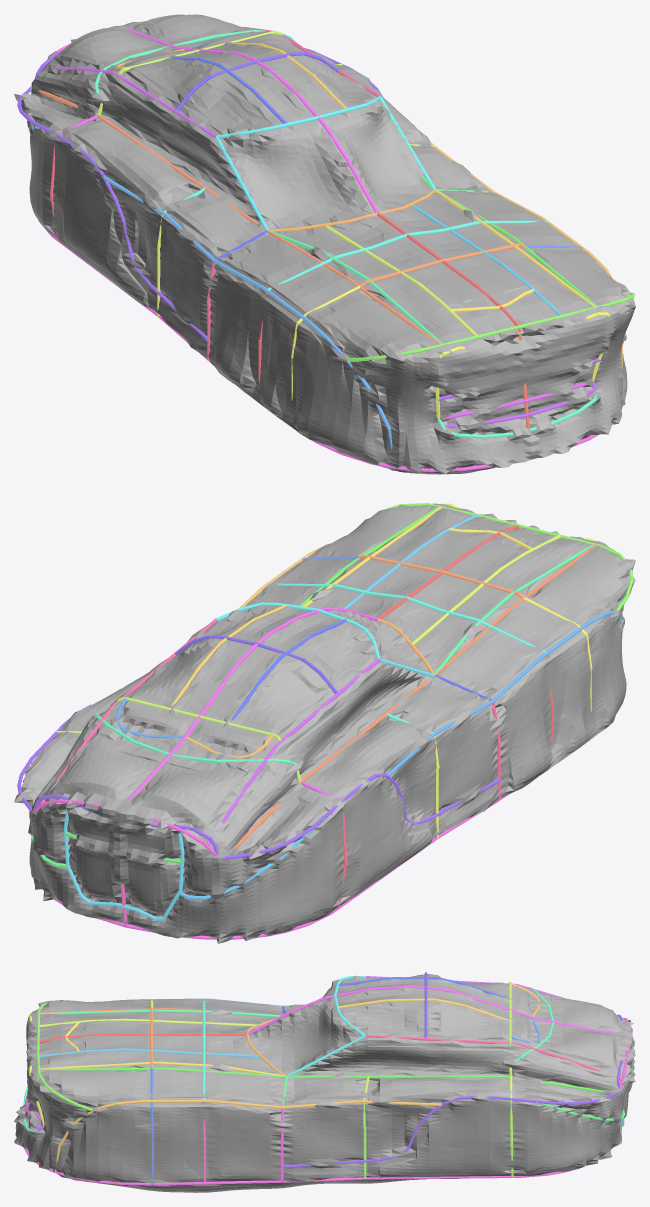
Rendered from t2f_car_97.gltf.
The picture shows the model from 3 angles, top to bottom: view 1: azimuth 30°, elevation 25°; view 2: azimuth 150°, elevation 25°; view 3: azimuth 270°, elevation 25°; orthographic projection. The views are drawn at different scales.
Size of the model in its own units: 0.3893 by 0.2823 by 0.9158.
